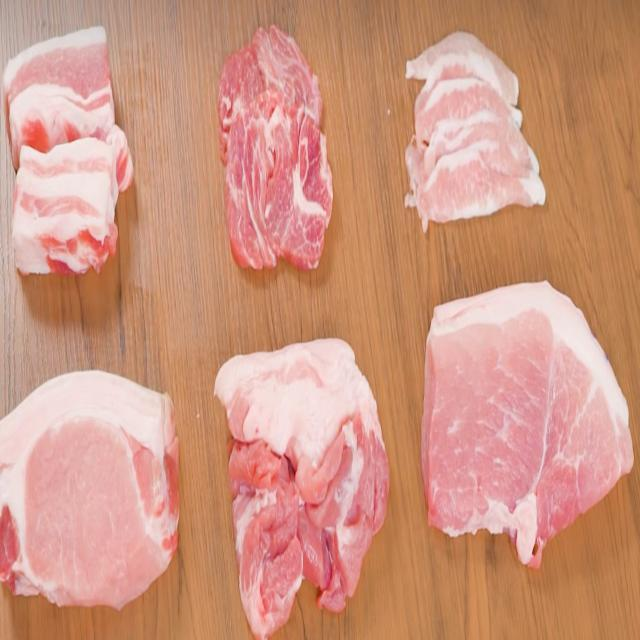pork: (424, 273, 632, 608), (214, 336, 396, 630), (2, 361, 194, 619), (398, 27, 573, 260), (3, 21, 136, 303), (218, 10, 338, 299)
